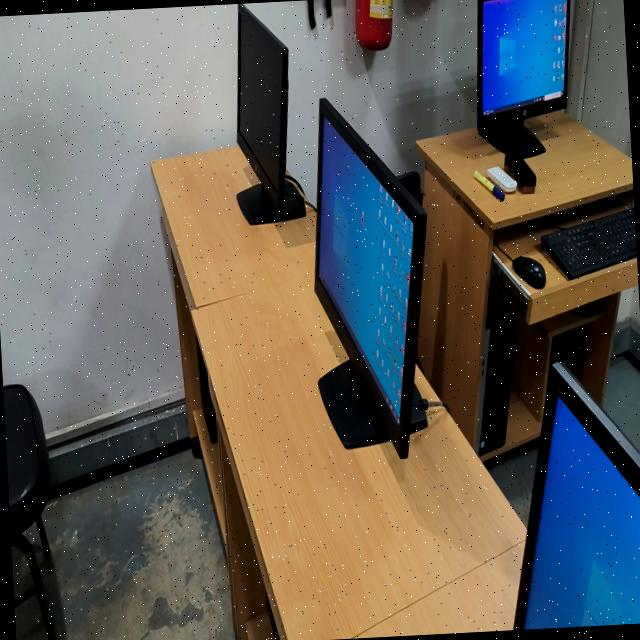Chair: (3, 385, 57, 640), (398, 171, 423, 204)
Cpu: (197, 340, 218, 443), (268, 600, 281, 640)
Fire Extinguisher: (355, 0, 393, 50)
Keyboard: (541, 207, 637, 279)
Monitor: (316, 99, 441, 458), (514, 364, 640, 630), (477, 0, 570, 159), (238, 4, 305, 224)
Mouse: (513, 256, 546, 289)
